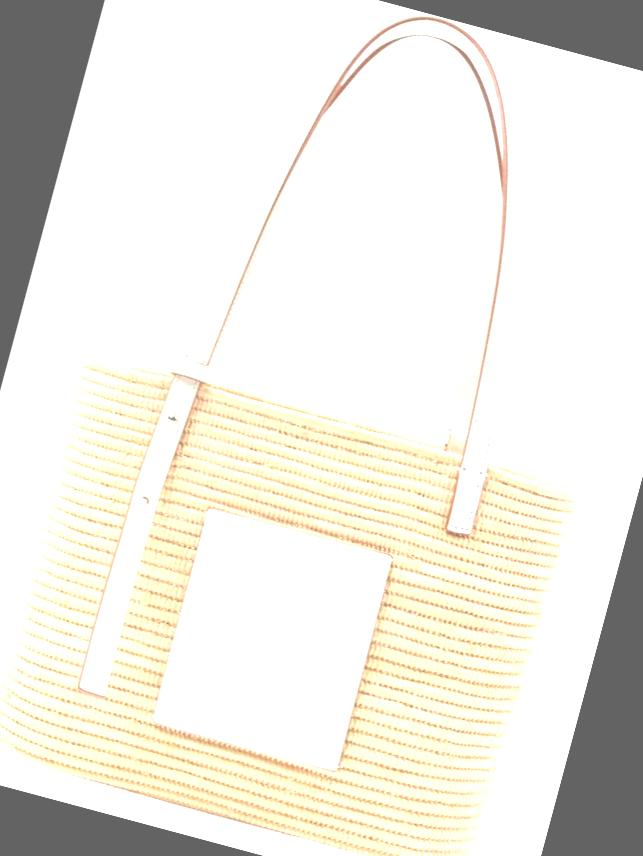LOEWE: (163, 550, 374, 770)
